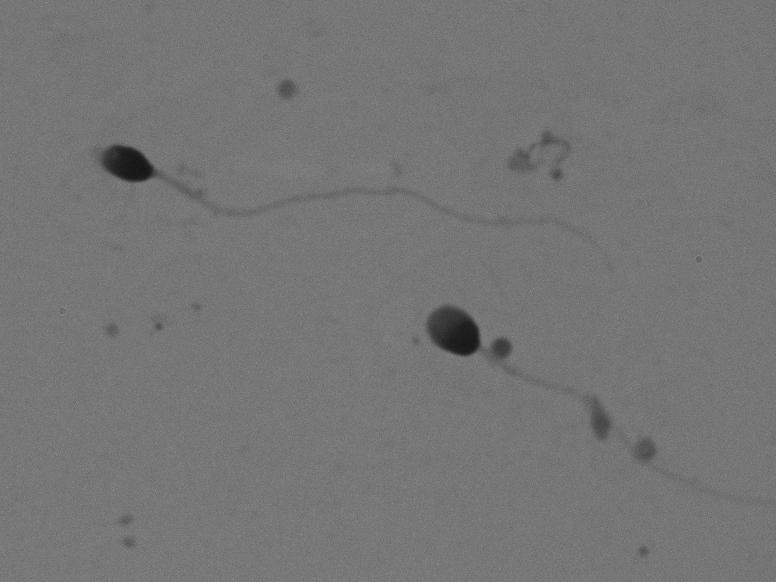Abnormal: (62, 103, 663, 286)
Normal: (360, 302, 769, 510)
